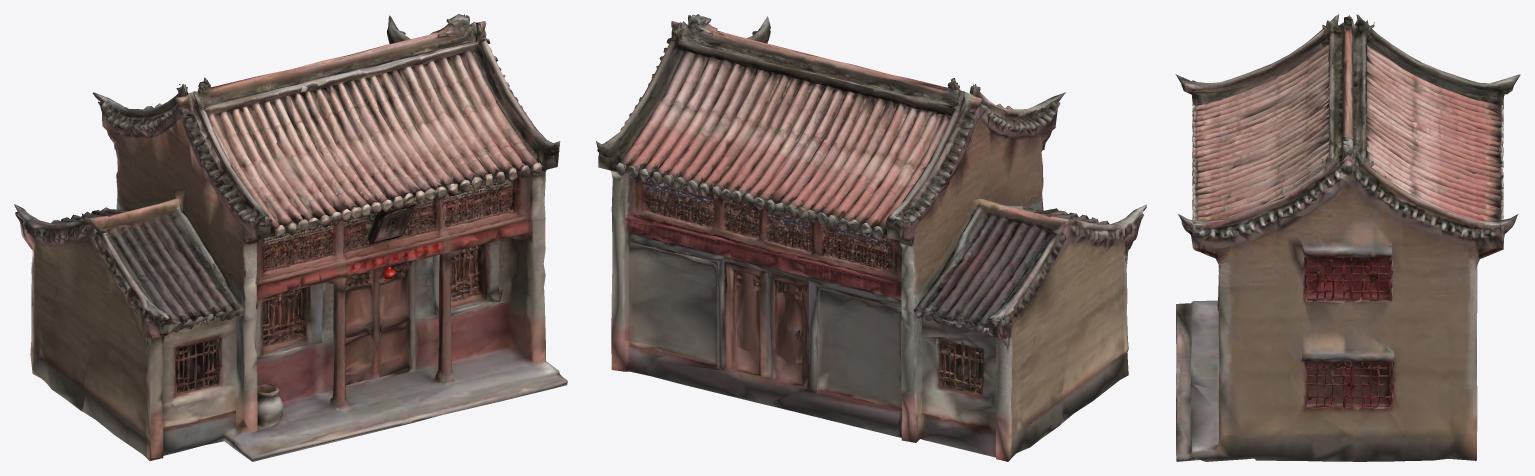
File: bq_inn.glb
3 renders of one model, left to right at view 1: azimuth 30°, elevation 25°; view 2: azimuth 150°, elevation 25°; view 3: azimuth 270°, elevation 25°, orthographic.
Size of the model in its own units: 1.91 by 1.43 by 1.43.
Materials: 1 (1 with a texture image).
